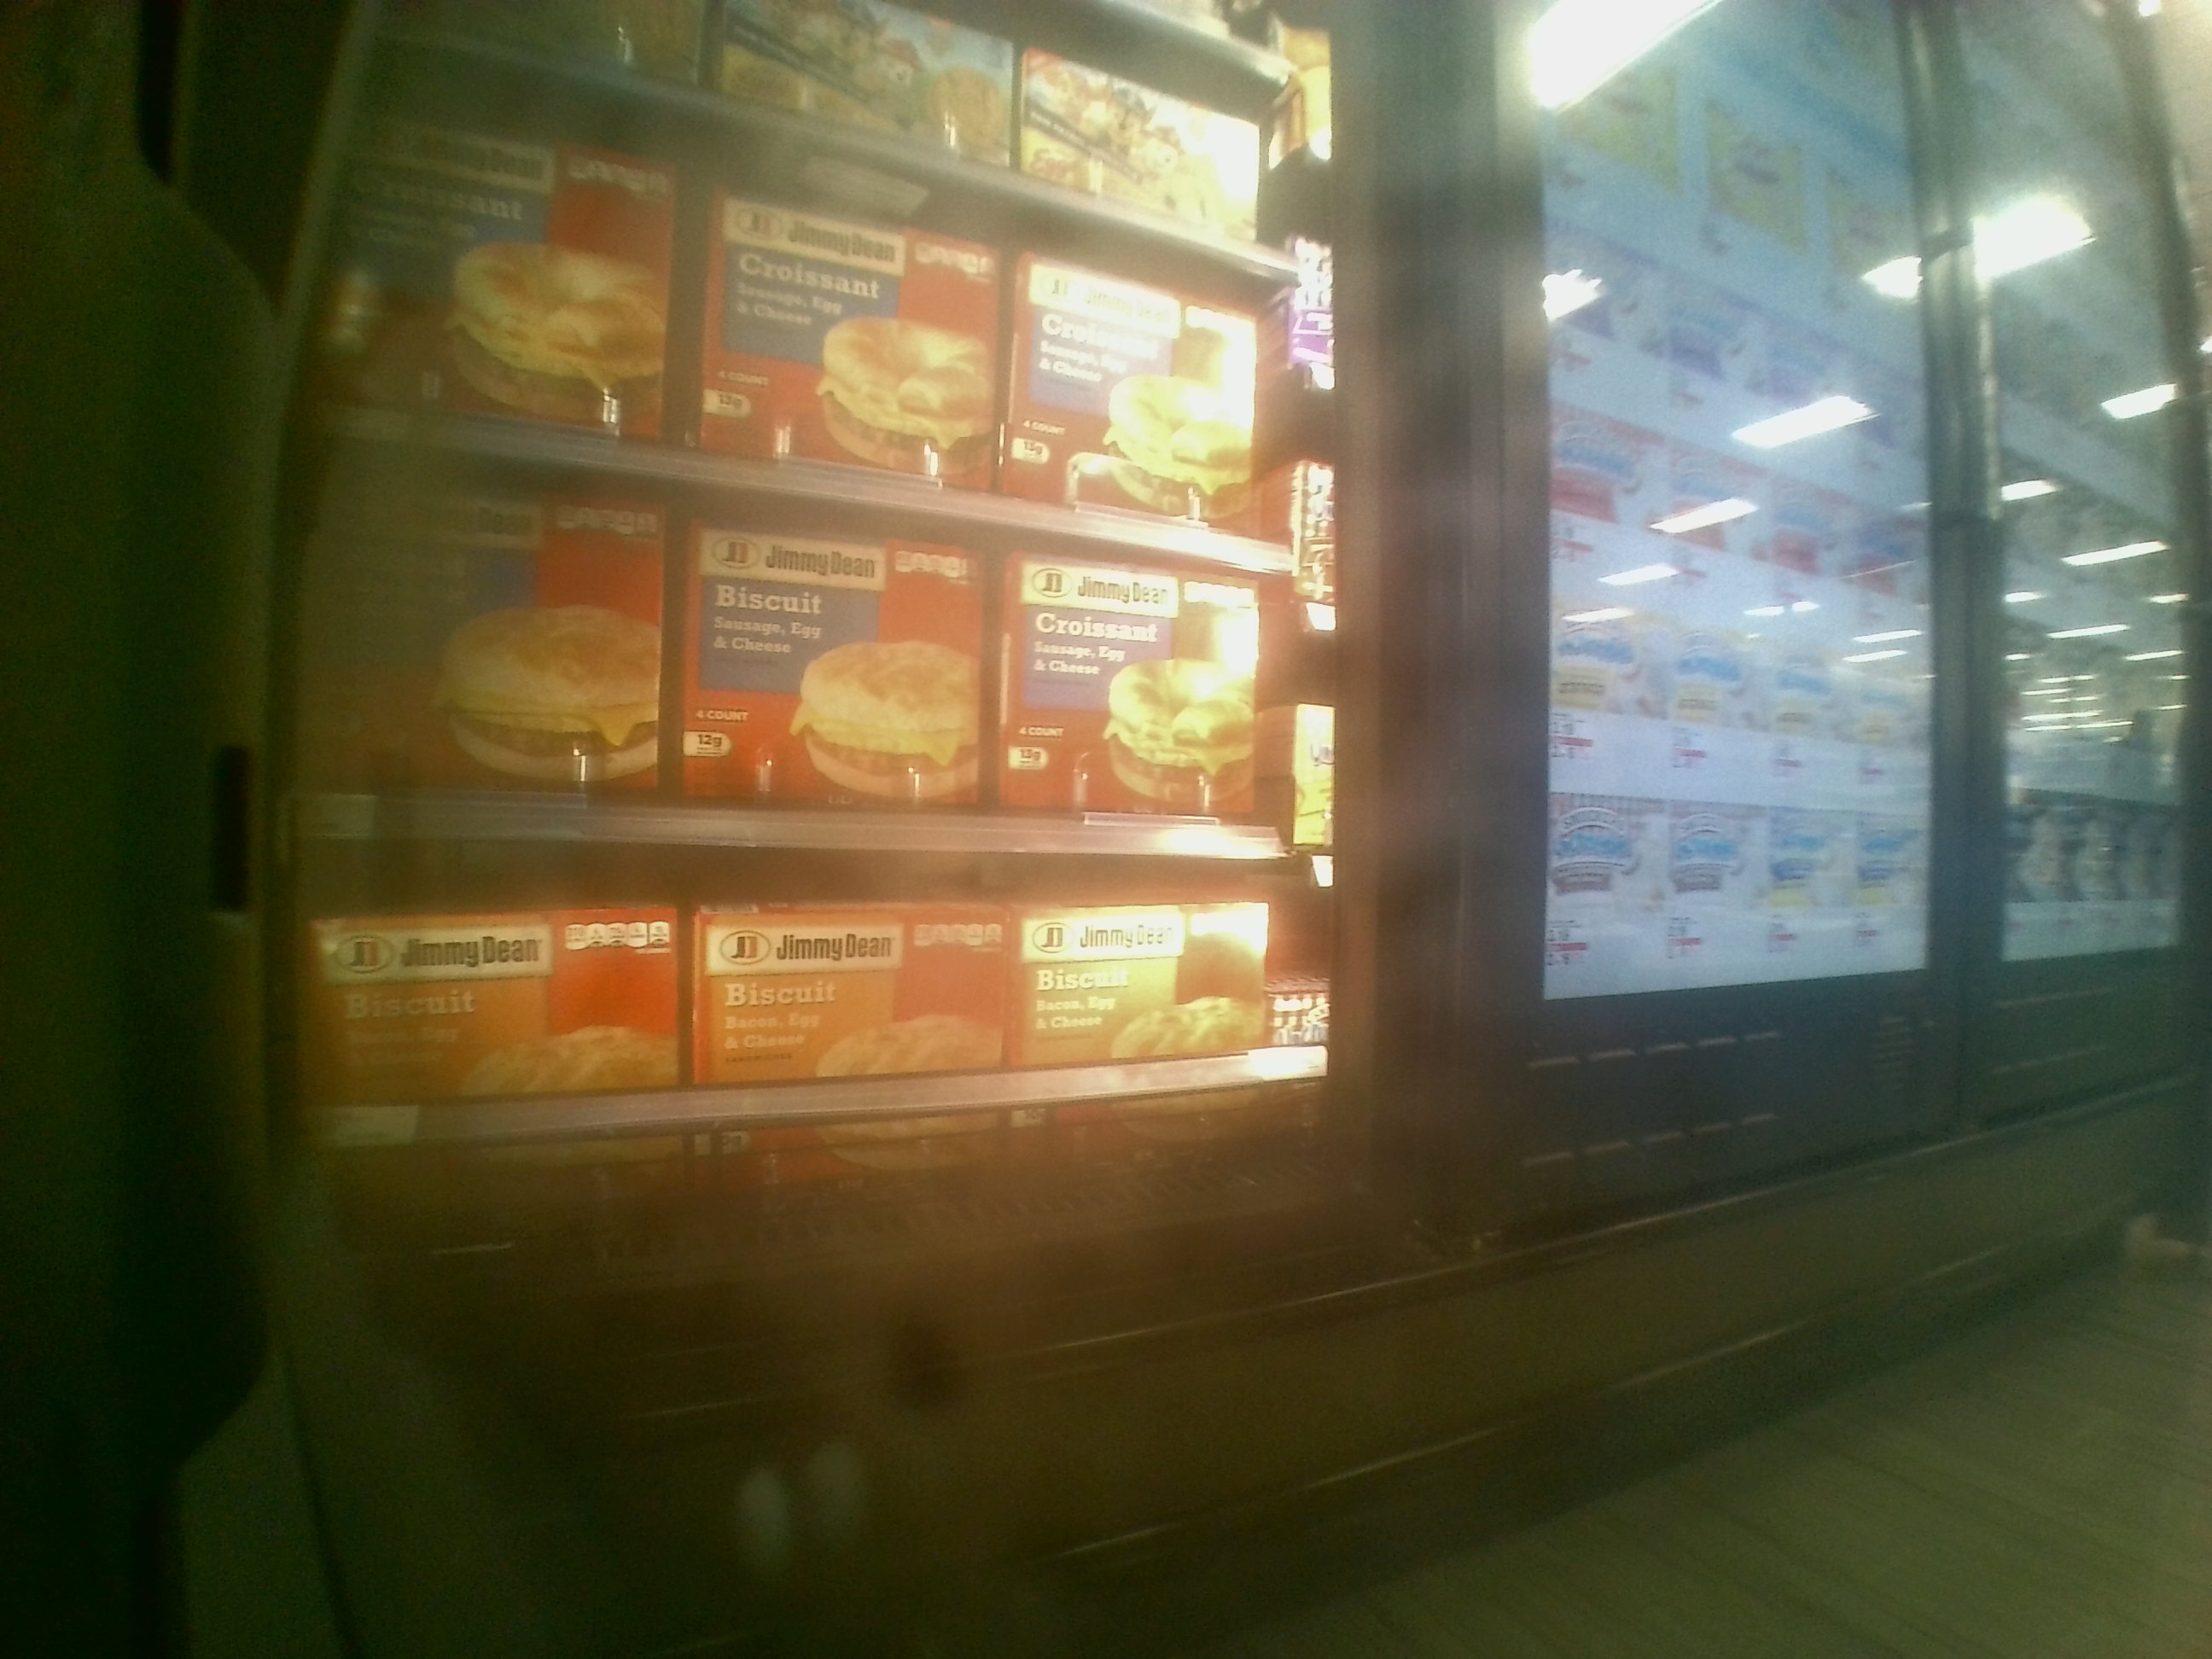shelf: (294, 847, 1345, 1260)
